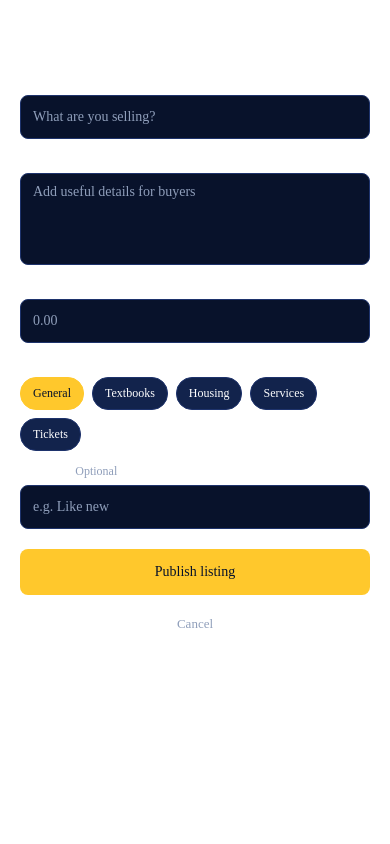
Test: CreateListingForm › does not submit missing required values and shows field errors
Click the button "Publish listing".
click(195, 572)  # box [20,549,370,595]
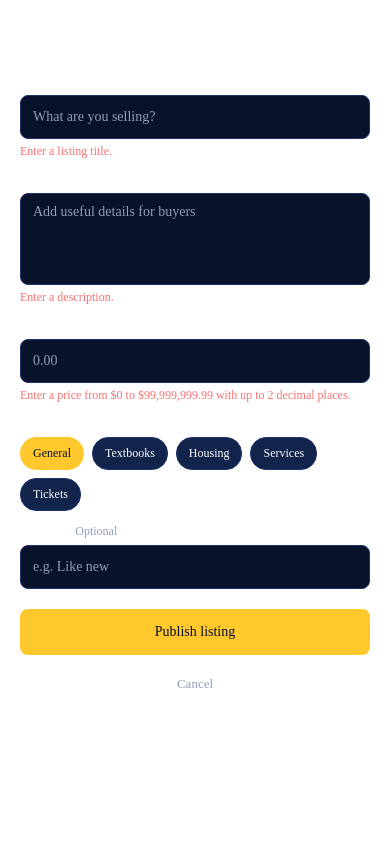
Expected: the text "Enter a listing title." is shown, [20,144,112,158]
Expected: the text "Enter a description." is shown, [20,290,114,304]
Expected: the text "Enter a price from $0 to $99,999,999.99 with up to 2 decimal places." is shown, [20,388,370,403]
